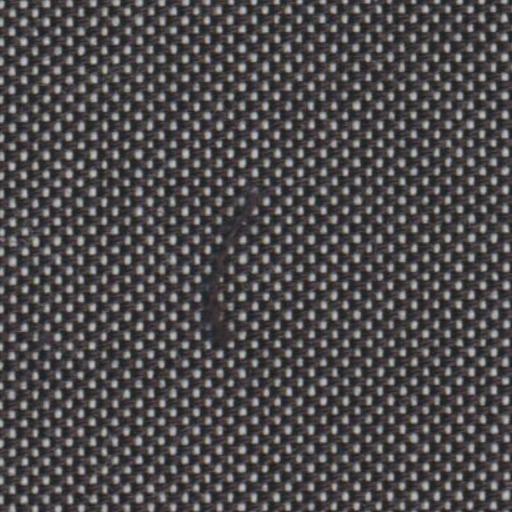DuanSha: (188, 174, 288, 352)
